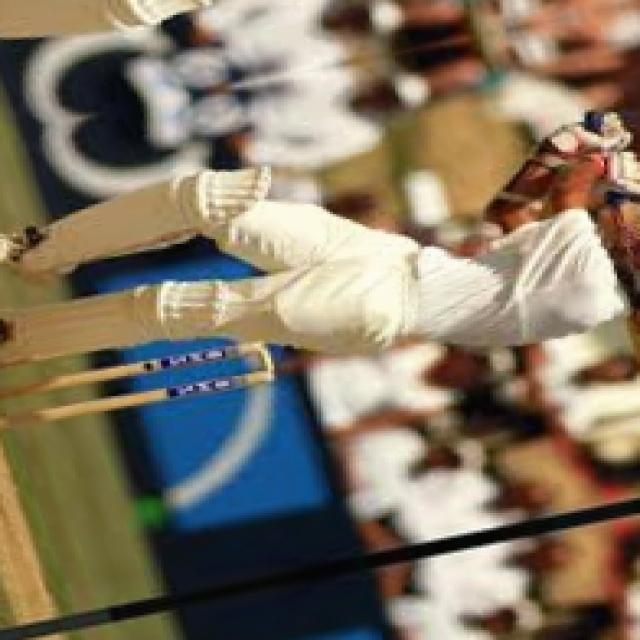toe: (628, 293, 640, 339)
